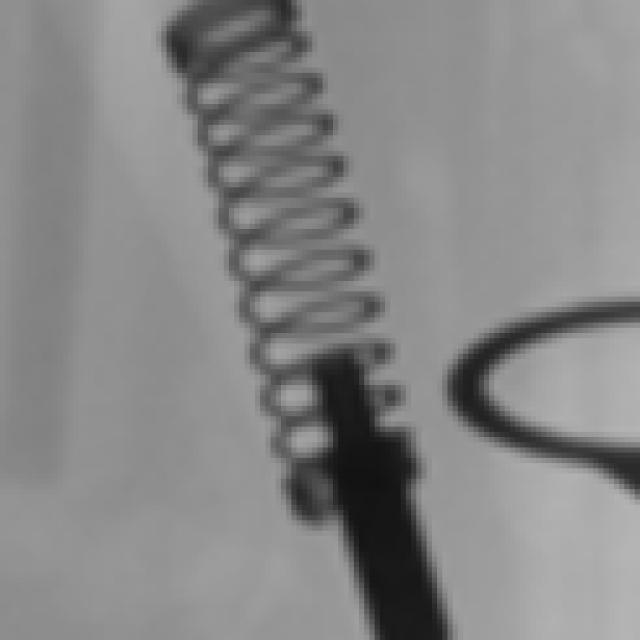GUN: (280, 359, 448, 640)
